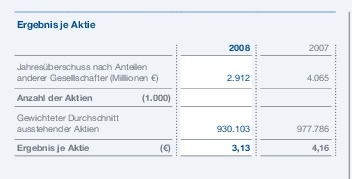table: (0, 0, 352, 179)
